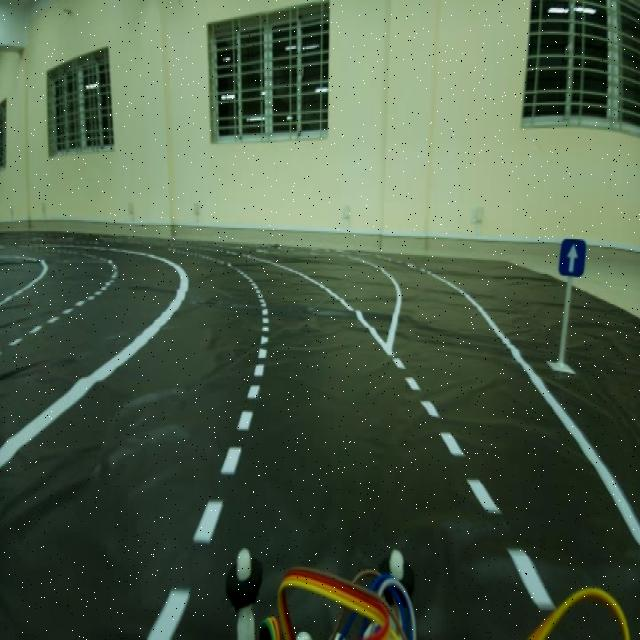onewayroad: (554, 222, 588, 293)
